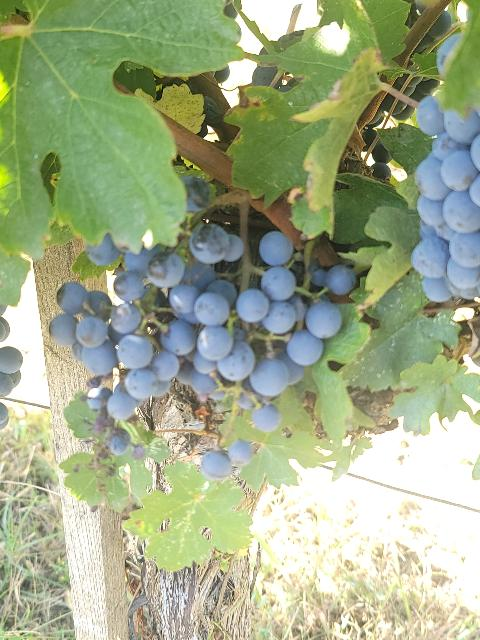grapes: (49, 221, 356, 459), (410, 96, 480, 302)
